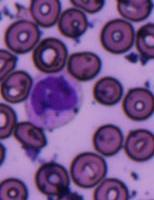N: (26, 69, 83, 130)
